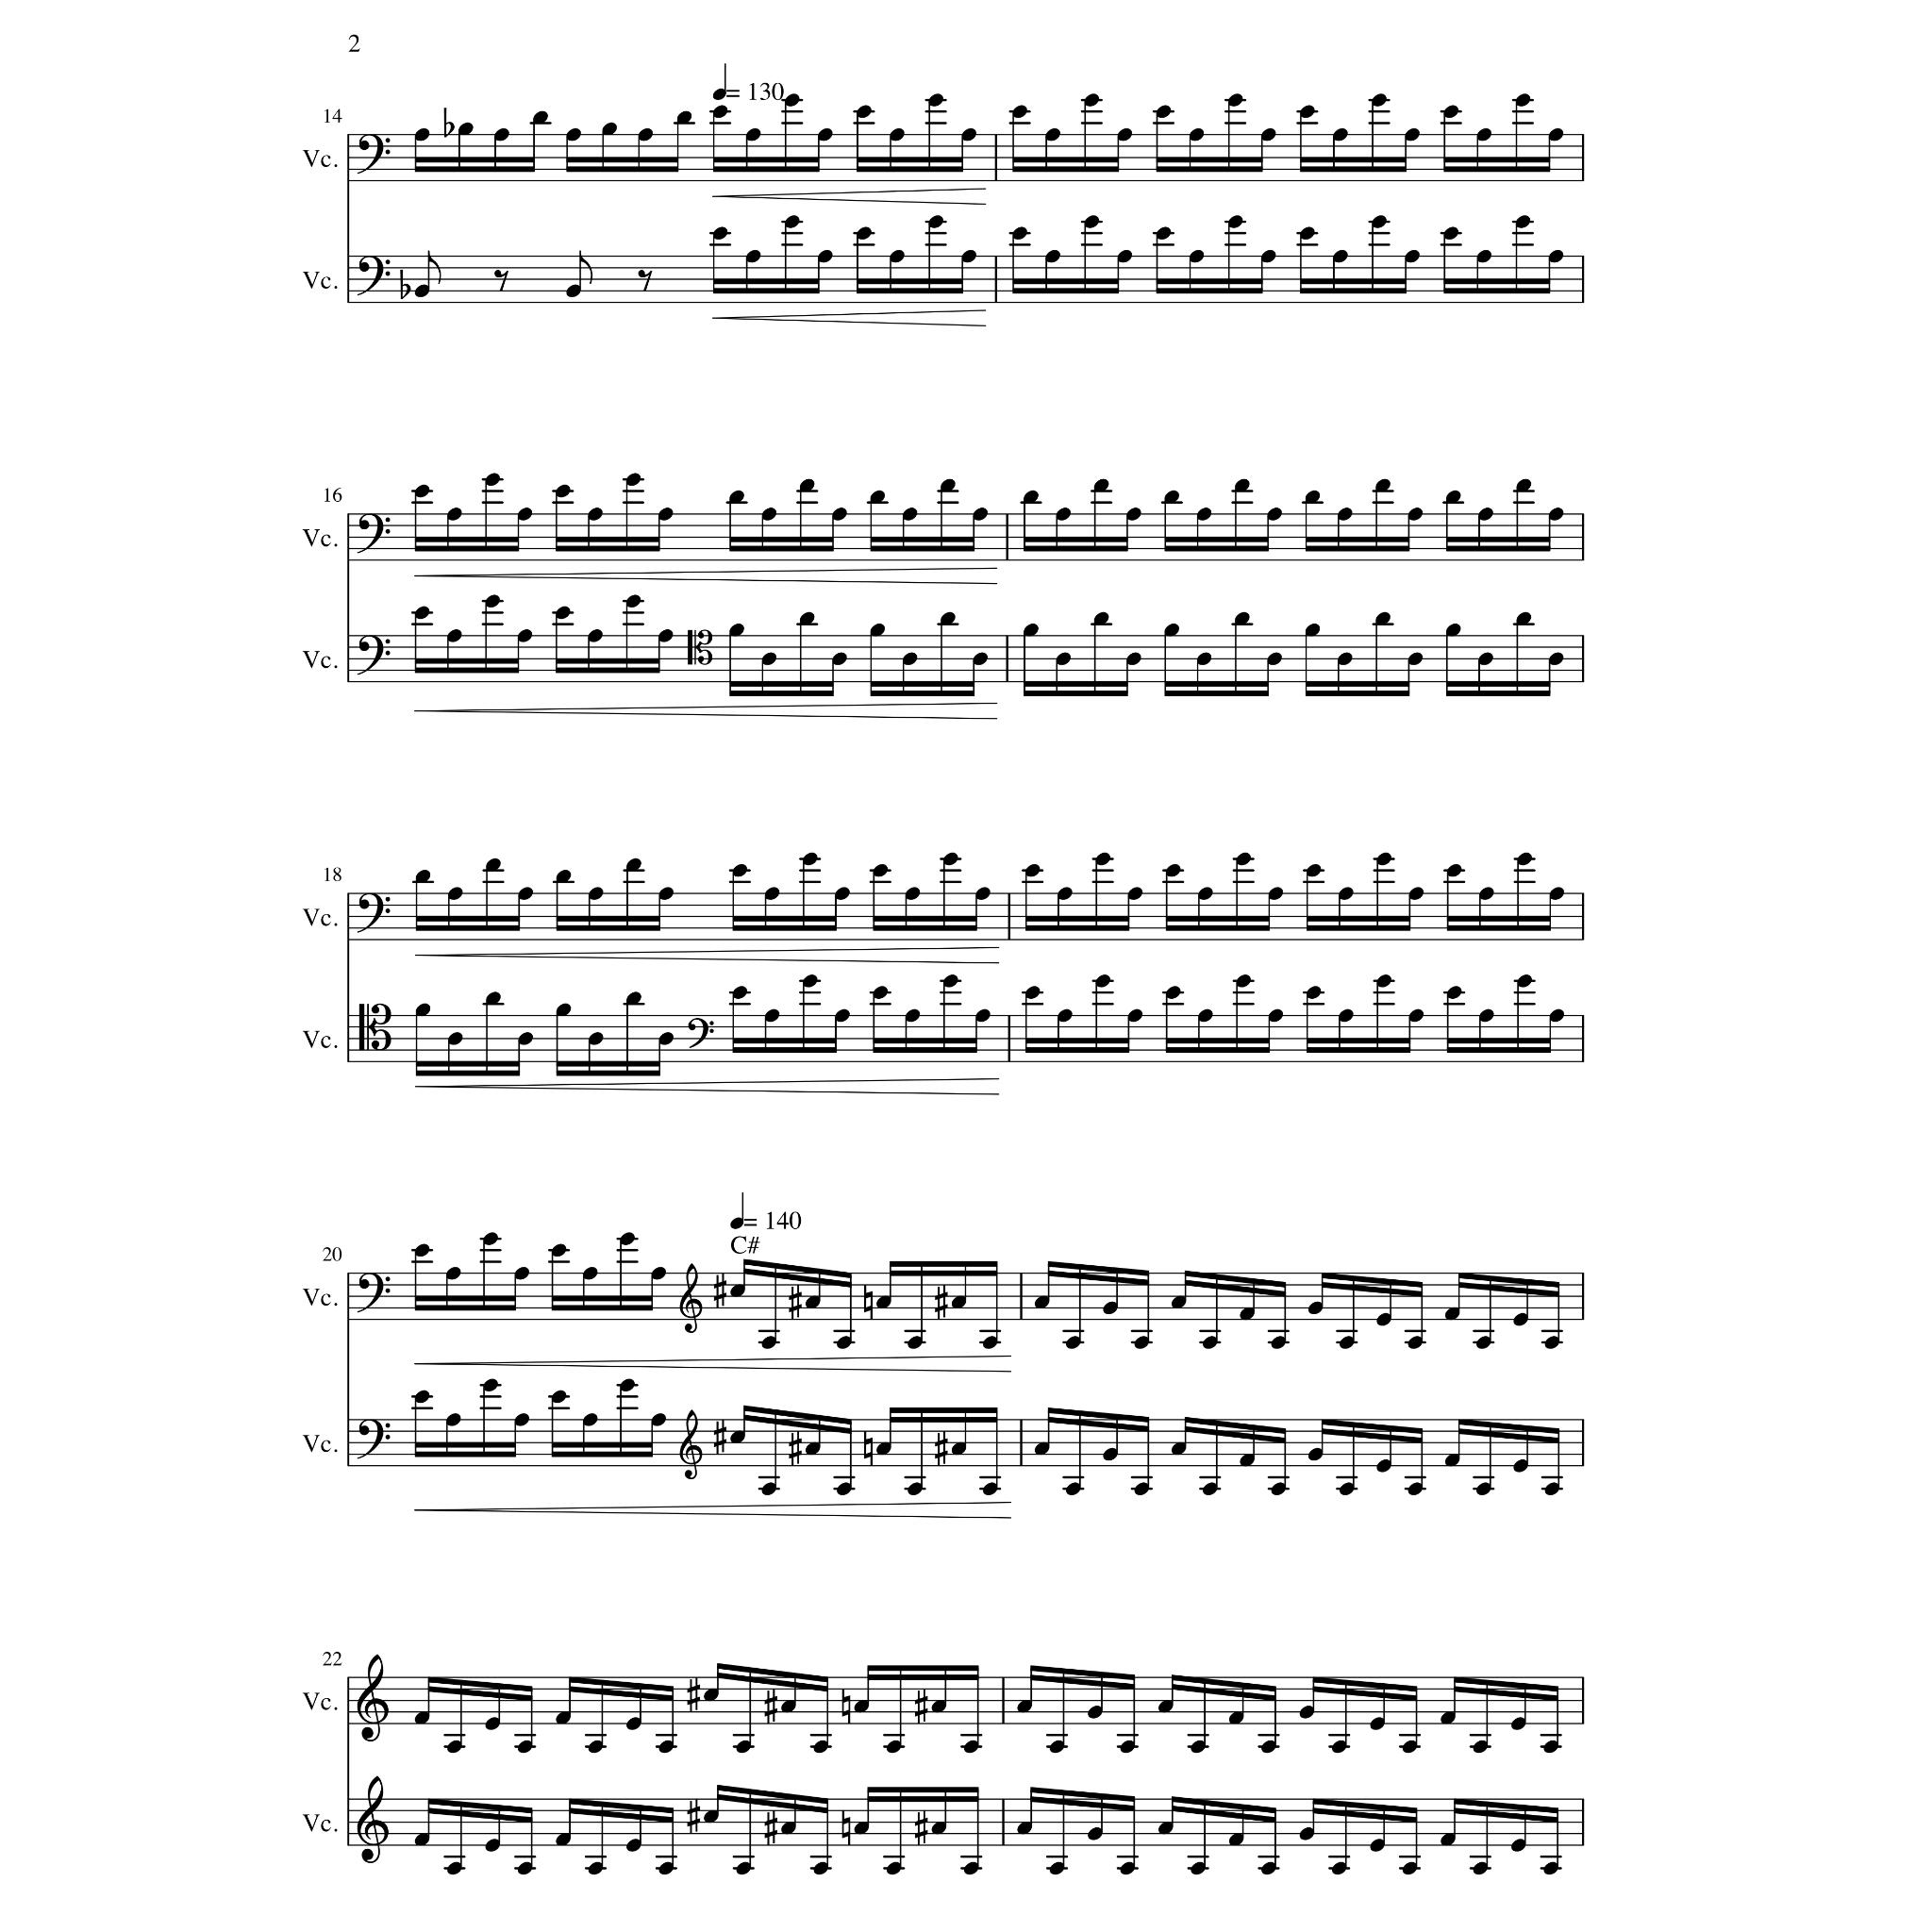fClef: (357, 134, 391, 175), (357, 513, 391, 555), (357, 892, 391, 934), (357, 1419, 391, 1460), (357, 1272, 391, 1313), (357, 257, 391, 296), (357, 636, 391, 675)
flag8thUp: (579, 251, 592, 285), (428, 251, 441, 285)
gClef: (357, 1775, 389, 1864), (357, 1654, 389, 1742)
noteheadBlack: (1404, 249, 1421, 264), (1475, 249, 1492, 264), (889, 249, 906, 264), (960, 249, 977, 264), (413, 606, 430, 621), (1375, 1458, 1392, 1474), (413, 1243, 430, 1258), (1189, 249, 1204, 264), (1332, 249, 1347, 264), (1260, 249, 1275, 264), (1045, 249, 1060, 264), (1117, 249, 1132, 264), (1548, 249, 1563, 264), (745, 249, 760, 264), (817, 249, 832, 264), (555, 606, 570, 621), (1513, 1458, 1528, 1474), (551, 1243, 566, 1258), (730, 1283, 745, 1298), (1226, 215, 1243, 228), (1226, 94, 1243, 108), (1083, 215, 1100, 228), (1083, 94, 1100, 108), (1155, 227, 1172, 241), (1155, 106, 1172, 119), (1404, 128, 1421, 142), (1475, 128, 1492, 142), (675, 111, 692, 125), (413, 285, 430, 298), (413, 128, 430, 142), (457, 123, 474, 136), (1011, 227, 1028, 241), (1011, 106, 1028, 119), (889, 128, 906, 142), (960, 128, 977, 142), (783, 215, 800, 228), (783, 94, 800, 108), (855, 106, 872, 119), (855, 227, 872, 241), (1234, 479, 1251, 492), (1234, 612, 1251, 625), (1304, 624, 1321, 637), (1304, 491, 1321, 504), (1266, 653, 1283, 666), (1266, 508, 1283, 521), (1055, 653, 1072, 666), (1055, 508, 1072, 521), (1092, 612, 1109, 625), (1092, 479, 1109, 492), (1547, 653, 1564, 666), (1547, 508, 1564, 521), (1515, 612, 1532, 625), (1515, 479, 1532, 492), (1336, 653, 1353, 666), (1336, 508, 1353, 521), (587, 629, 604, 642), (587, 508, 604, 521), (657, 629, 674, 642), (657, 508, 674, 521), (625, 595, 641, 608), (625, 474, 641, 487), (413, 485, 430, 498), (445, 629, 462, 642), (445, 508, 462, 521), (940, 479, 957, 492), (940, 612, 957, 625), (760, 653, 777, 666), (760, 508, 777, 521), (728, 624, 745, 637), (728, 491, 745, 504), (972, 508, 989, 521), (972, 653, 989, 666), (798, 612, 815, 625), (798, 479, 815, 492), (1164, 986, 1181, 999), (1164, 864, 1181, 877), (1126, 1009, 1143, 1023), (1126, 888, 1143, 901), (1094, 974, 1111, 988), (1094, 853, 1111, 866), (1375, 853, 1392, 866), (1407, 1009, 1424, 1023), (1407, 888, 1424, 901), (1375, 974, 1392, 988), (1445, 986, 1462, 999), (1445, 864, 1462, 877), (587, 1032, 604, 1045), (587, 888, 604, 901), (555, 1004, 572, 1017), (555, 870, 572, 883), (517, 1032, 534, 1045), (517, 888, 534, 901), (625, 991, 641, 1005), (625, 858, 641, 872), (485, 991, 502, 1005), (485, 858, 502, 872), (447, 1032, 464, 1045), (447, 888, 464, 901), (872, 986, 889, 999), (872, 864, 889, 877), (941, 853, 958, 866), (941, 974, 958, 988), (904, 1009, 921, 1023), (904, 888, 921, 901), (1170, 1295, 1187, 1308), (1170, 1442, 1187, 1456), (1270, 1482, 1287, 1495), (1270, 1336, 1287, 1349), (1102, 1302, 1119, 1315), (1102, 1448, 1119, 1461), (1064, 1482, 1081, 1495), (1064, 1336, 1081, 1349), (1543, 1482, 1560, 1495), (1543, 1336, 1560, 1349), (1375, 1313, 1392, 1326), (1338, 1482, 1355, 1495), (1338, 1336, 1355, 1349), (1443, 1454, 1460, 1467), (1443, 1307, 1460, 1321), (581, 1413, 598, 1426), (581, 1267, 598, 1280), (413, 1391, 430, 1404), (513, 1413, 530, 1426), (513, 1267, 530, 1280), (481, 1379, 498, 1392), (481, 1232, 498, 1245), (760, 1482, 777, 1495), (760, 1336, 777, 1349), (804, 1442, 821, 1456), (804, 1295, 821, 1308), (1157, 1822, 1174, 1835), (1157, 1700, 1174, 1713), (1298, 1827, 1315, 1840), (1298, 1706, 1315, 1719), (1119, 1862, 1136, 1875), (1119, 1740, 1136, 1754), (1509, 1839, 1526, 1852), (1509, 1717, 1526, 1730), (1330, 1862, 1347, 1875), (1330, 1740, 1347, 1754), (1440, 1833, 1457, 1846), (1472, 1862, 1489, 1875), (1472, 1740, 1489, 1754), (1440, 1711, 1457, 1724), (587, 1862, 604, 1875), (587, 1740, 604, 1754), (625, 1839, 641, 1852), (625, 1717, 641, 1730), (413, 1833, 430, 1846), (413, 1711, 430, 1724), (445, 1862, 462, 1875), (445, 1740, 462, 1754), (885, 1862, 902, 1875), (885, 1740, 902, 1754), (853, 1822, 870, 1835), (853, 1700, 870, 1713), (962, 1862, 979, 1875), (962, 1740, 979, 1754), (930, 1822, 947, 1835), (930, 1700, 947, 1713), (1189, 128, 1204, 142), (1300, 106, 1315, 119), (1332, 128, 1347, 142), (1300, 227, 1315, 241), (1260, 128, 1275, 142), (1045, 128, 1060, 142), (1117, 128, 1132, 142), (1548, 128, 1563, 142), (1515, 215, 1530, 228), (1515, 94, 1530, 108), (1372, 215, 1387, 228), (1372, 94, 1387, 108), (1443, 227, 1458, 241), (1443, 106, 1458, 119), (638, 128, 653, 142), (602, 123, 617, 136), (566, 285, 581, 298), (566, 128, 581, 142), (712, 227, 727, 241), (745, 128, 760, 142), (532, 111, 547, 125), (712, 106, 727, 119), (494, 128, 509, 142), (928, 215, 943, 228), (928, 94, 943, 108), (817, 128, 832, 142), (1196, 653, 1211, 666), (1196, 508, 1211, 521), (1164, 624, 1179, 637), (1164, 491, 1179, 504), (1023, 624, 1038, 637), (1126, 653, 1141, 666), (1126, 508, 1141, 521), (1375, 479, 1391, 492), (1407, 653, 1423, 666), (1407, 508, 1423, 521), (1375, 612, 1391, 625), (1477, 653, 1492, 666), (1477, 508, 1492, 521), (1445, 624, 1460, 637), (1445, 491, 1460, 504), (555, 485, 570, 498), (517, 629, 532, 642), (1023, 491, 1038, 504), (517, 508, 532, 521), (485, 595, 500, 608), (485, 474, 500, 487), (870, 624, 885, 637), (870, 491, 885, 504), (832, 653, 847, 666), (832, 508, 847, 521), (902, 653, 917, 666), (902, 508, 917, 521), (1198, 1009, 1213, 1023), (1236, 853, 1251, 866), (1236, 974, 1251, 988), (1198, 888, 1213, 901), (1024, 986, 1040, 999), (1306, 986, 1321, 999), (1306, 864, 1321, 877), (1268, 1009, 1283, 1023), (1268, 888, 1283, 901), (1057, 1009, 1072, 1023), (1057, 888, 1072, 901), (1549, 1009, 1564, 1023), (1549, 888, 1564, 901), (1517, 974, 1532, 988), (1517, 853, 1532, 866), (1338, 1009, 1353, 1023), (1338, 888, 1353, 901), (1479, 1009, 1494, 1023), (1479, 888, 1494, 901), (1024, 864, 1040, 877), (658, 1032, 674, 1045), (658, 888, 674, 901), (415, 1004, 430, 1017), (415, 870, 430, 883), (834, 1009, 849, 1023), (834, 888, 849, 901), (764, 1009, 779, 1023), (764, 888, 779, 901), (732, 986, 747, 999), (732, 864, 747, 877), (975, 888, 991, 901), (975, 1009, 991, 1023), (802, 974, 817, 988), (802, 853, 817, 866), (1202, 1482, 1217, 1495), (1202, 1336, 1217, 1349), (1307, 1448, 1323, 1461), (1307, 1302, 1323, 1315), (1240, 1454, 1255, 1467), (1240, 1307, 1255, 1321), (1034, 1442, 1049, 1456), (1034, 1295, 1049, 1308), (1134, 1482, 1149, 1495), (1134, 1336, 1149, 1349), (1513, 1313, 1528, 1326), (1475, 1482, 1491, 1495), (1475, 1336, 1491, 1349), (1407, 1482, 1423, 1495), (1407, 1336, 1423, 1349), (551, 1391, 566, 1404), (730, 1430, 745, 1443), (651, 1413, 666, 1426), (651, 1267, 666, 1280), (619, 1379, 634, 1392), (619, 1232, 634, 1245), (445, 1413, 460, 1426), (445, 1267, 460, 1280), (875, 1295, 891, 1308), (875, 1442, 891, 1456), (908, 1336, 923, 1349), (836, 1482, 851, 1495), (836, 1336, 851, 1349), (982, 1482, 997, 1495), (982, 1336, 997, 1349), (951, 1442, 966, 1456), (951, 1295, 966, 1308), (908, 1482, 923, 1495), (1191, 1740, 1206, 1754), (1191, 1862, 1206, 1875), (1228, 1711, 1243, 1724), (1260, 1740, 1275, 1754), (1260, 1862, 1275, 1875), (1228, 1833, 1243, 1846), (1049, 1740, 1064, 1754), (1017, 1822, 1032, 1835), (1017, 1700, 1032, 1713), (1087, 1827, 1102, 1840), (1087, 1706, 1102, 1719), (1049, 1862, 1064, 1875), (1543, 1862, 1558, 1875), (1543, 1740, 1558, 1754), (1370, 1839, 1385, 1852), (1370, 1717, 1385, 1730), (1402, 1862, 1417, 1875), (1402, 1740, 1417, 1754), (555, 1833, 570, 1846), (555, 1711, 570, 1724), (704, 1810, 719, 1824), (704, 1689, 719, 1702), (658, 1862, 674, 1875), (658, 1740, 674, 1754), (517, 1862, 532, 1875), (517, 1740, 532, 1754), (485, 1839, 500, 1852), (485, 1717, 500, 1730), (736, 1740, 751, 1754), (781, 1822, 796, 1835), (781, 1700, 796, 1713), (736, 1862, 751, 1875), (813, 1862, 828, 1875), (813, 1740, 828, 1754)
rest8th: (637, 270, 652, 292), (493, 270, 508, 292)
